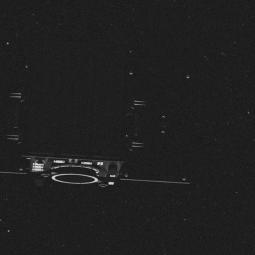proba_2: (19, 55, 194, 196)
